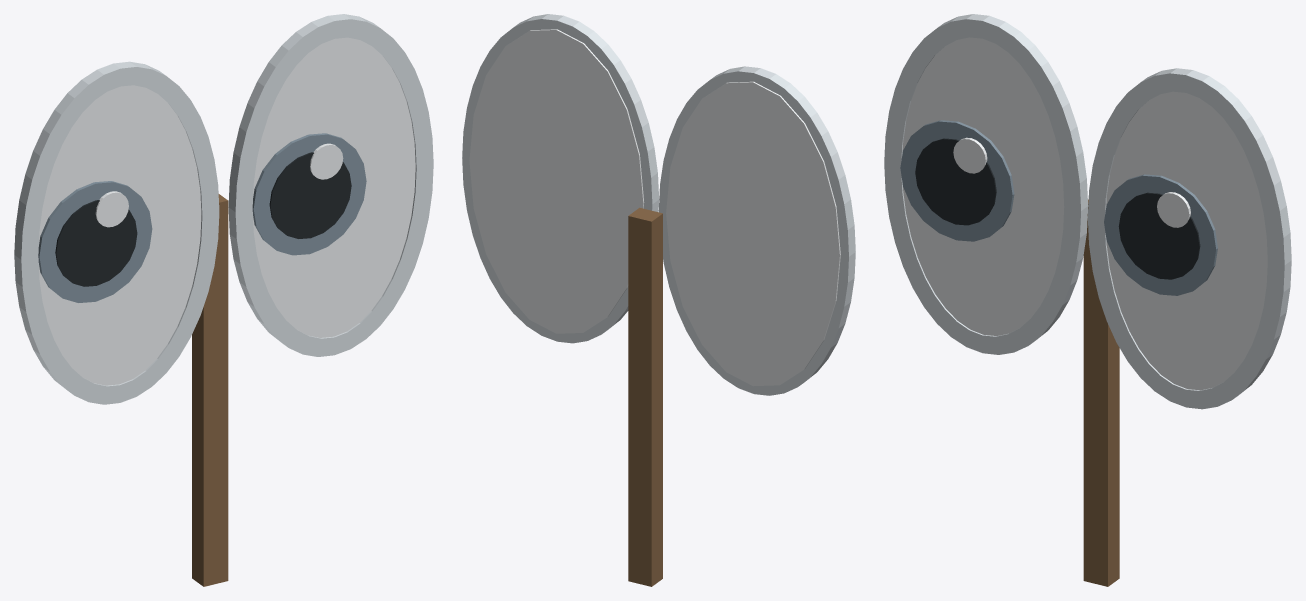
The model's file is yeux.glb.
3 renders of one model, left to right at view 1: azimuth 30°, elevation 25°; view 2: azimuth 150°, elevation 25°; view 3: azimuth 330°, elevation 25°, orthographic. The views are drawn at different scales.
Bounding box in the file's own units: 1 × 1.28 × 0.121.
